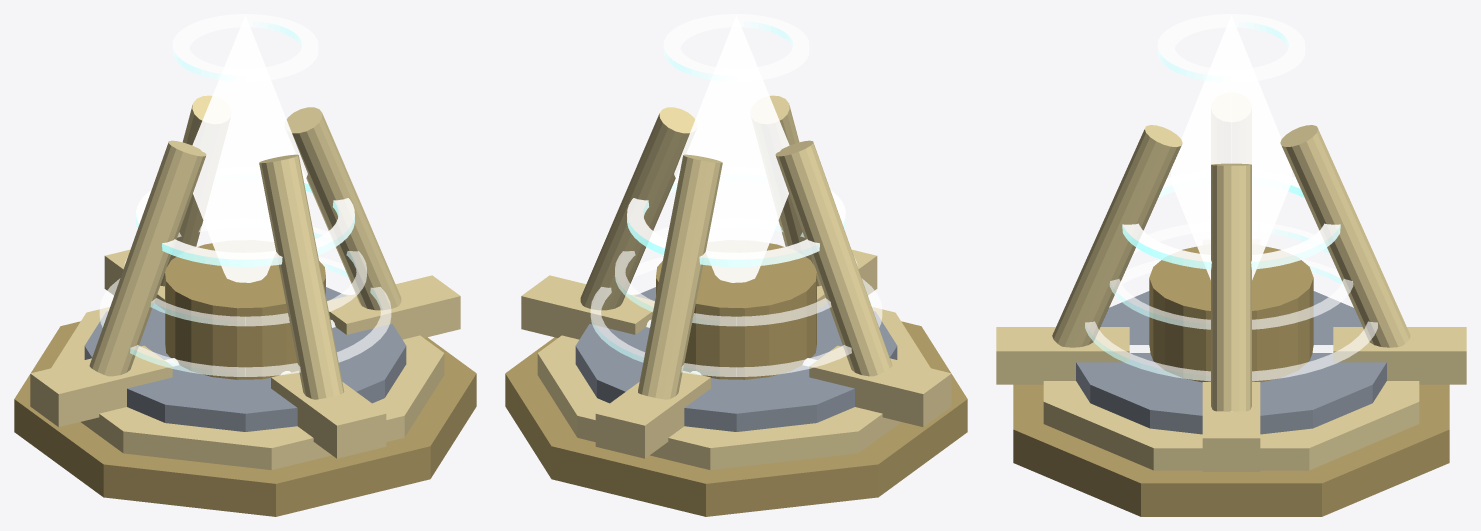
Rendered from helias_pylon.glb.
The picture shows the model from 3 angles, left to right: view 1: azimuth 30°, elevation 25°; view 2: azimuth 150°, elevation 25°; view 3: azimuth 270°, elevation 25°; orthographic projection.
Parts seen in each view (by area): view 1: foundation_000, main_crystal_016, plinth_001, floor_002, core_socket_015, crystal_support_013, crystal_support_010, crystal_support_004, anchor_006, anchor_009, anchor_012, upper_halo_018 (+5 smaller); view 2: foundation_000, main_crystal_016, plinth_001, floor_002, core_socket_015, crystal_support_007, crystal_support_010, crystal_support_004, anchor_006, anchor_003, anchor_012, upper_halo_018 (+5 smaller); view 3: foundation_000, floor_002, main_crystal_016, plinth_001, core_socket_015, crystal_support_004, crystal_support_013, crystal_support_007, anchor_003, anchor_009, upper_halo_018, anchor_012 (+3 smaller).
Boxes of the visible parts, x1,y1,x2,y2 form: foundation_000: (14,321,476,516); main_crystal_016: (192,15,307,282); plinth_001: (51,294,444,470); floor_002: (84,287,406,431); core_socket_015: (165,243,325,379); crystal_support_013: (259,154,344,399); crystal_support_010: (89,140,206,376); crystal_support_004: (286,107,401,310); anchor_006: (30,345,172,427); anchor_009: (271,371,386,458); anchor_012: (327,275,460,339); upper_halo_018: (172,14,318,81); foundation_000: (505,321,967,516); main_crystal_016: (674,15,789,282); plinth_001: (537,294,930,470); floor_002: (575,287,897,431); core_socket_015: (656,243,816,379); crystal_support_007: (638,154,722,399); crystal_support_010: (775,140,892,376); crystal_support_004: (580,107,695,310); anchor_006: (809,345,951,427); anchor_003: (595,371,710,458); anchor_012: (521,275,654,339); upper_halo_018: (663,14,809,81); foundation_000: (1013,384,1449,516); floor_002: (1076,291,1386,434); main_crystal_016: (1171,15,1291,279); plinth_001: (1043,381,1419,470); core_socket_015: (1149,246,1313,382); crystal_support_004: (1211,163,1251,411); crystal_support_013: (1052,125,1182,347); crystal_support_007: (1280,125,1410,347); anchor_003: (1333,327,1466,384); anchor_009: (996,327,1129,384); upper_halo_018: (1157,14,1305,82); anchor_012: (1202,382,1260,471).
Size of the model in its own units: 4 by 3.84 by 4.
